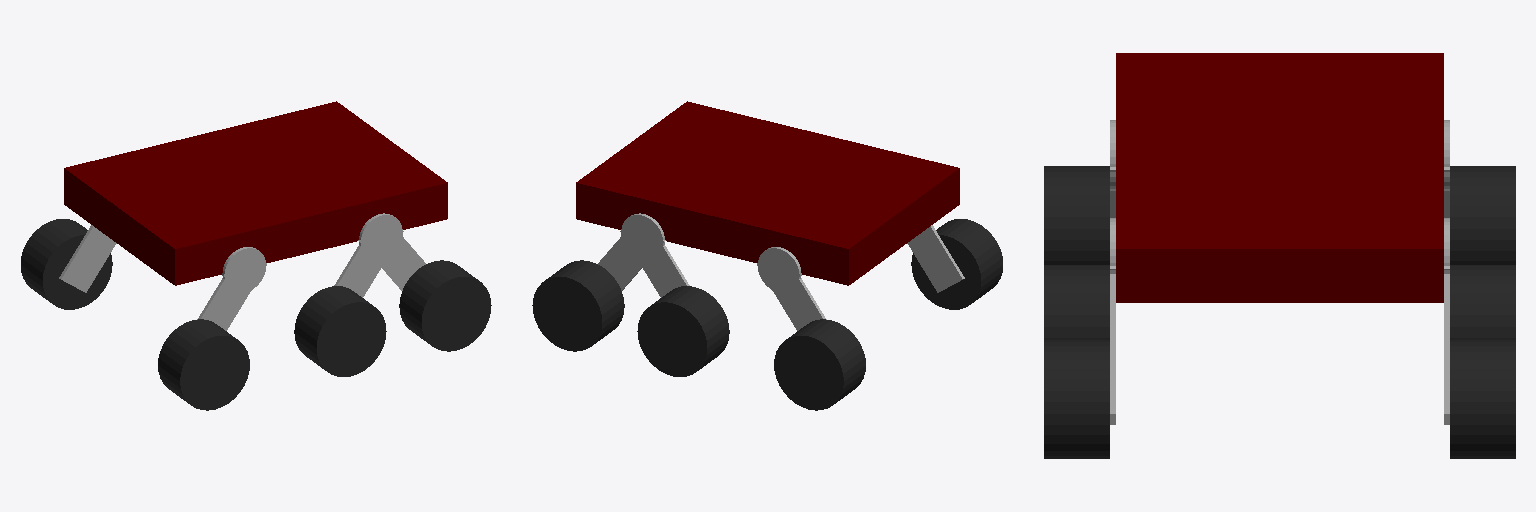
robot.urdf — rover:
<?xml version="1.0"?>
<robot name="rover">

  <material name="gray">
    <color rgba="0.7 0.7 0.7 5"/>
  </material>
  <material name="black">
    <color rgba="0.2 0.2 0.2 2"/>
  </material>
  <material name="chasis">
    <color rgba="0.4 0 0 2"/>
  </material>
  <material name="joint">
    <color rgba="0.4 0 0 2"/>
  </material>

  <link name="base_link">
    <visual>
      <geometry>
        <box size="0.0001 0.0001 0.000033"/>
      </geometry>
    </visual>
  </link>
  
  <link name="base_pitch">
    <visual>
      <geometry>
        <box size="0.0001 0.0001 0.000033"/>
      </geometry>
    </visual>
  </link>
  
  <joint name="base_link_to_base_pitch" type="revolute">
    <axis xyz="0 0 1"/>
    <limit effort="1000.0" lower="-7" upper="7" velocity=".1"/>
    <parent link="base_link"/>
    <child link="base_pitch"/>
    <origin xyz="0 0 -.000033"/>
  </joint>
  
  <link name="base_heading">
    <visual>
      <geometry>
        <box size="0.0001 0.0001 0.000033"/>
      </geometry>
    </visual>
  </link>
  
  <joint name="base_pitch_to_base_heading" type="revolute">
    <axis xyz="0 1 0"/>
    <limit effort="1000.0" lower="-0.6" upper="0.6" velocity=".1"/>
    <parent link="base_pitch"/>
    <child link="base_heading"/>
    <origin xyz="0 0 -.000066"/>
  </joint>
  
  <link name="chasis">
    <visual>
      <geometry>
        <box size="0.78 0.55 0.1"/>
      </geometry>
      <origin xyz="0 0 0 "/>
      <material name="chasis"/>
    </visual>
  </link>

  <joint name="base_heading_to_chasis" type="revolute">
    <axis xyz="1 0 0"/>
    <limit effort="1000.0" lower="-0.6" upper="0.6" velocity=".1"/>
    <parent link="base_heading"/>
    <child link="chasis"/>
    <origin xyz="0 0 -0.0001"/>
  </joint>
  
  <link name="right">
    <visual>
      <geometry>
        <cylinder radius="0.06" length=".01"/>
      </geometry>
      <origin rpy ="1.5708 0 0" xyz="0 0 0"/>
      <material name="gray"/>
    </visual>
  </link>
  
  <link name="right1">
    <visual>
      <geometry>
        <box size="0.09 0.01 0.323"/>
      </geometry>
      <origin rpy="0 0.6435029 0" xyz="-.07 0 -.1"/>
      <material name="gray"/>
    </visual>
  </link>
  
  <link name="right2">
    <visual>
      <geometry>
        <box size="0.09 0.01 0.323"/>
      </geometry>
      <origin rpy="0 -0.6435029 0" xyz=".07 0 -.1"/>
      <material name="gray"/>
    </visual>
  </link>
  
  <link name="left">
    <visual>
      <geometry>
        <cylinder radius="0.06" length=".01"/>
      </geometry>
      <origin rpy="1.5708 0 0" xyz="0 0 0"/>
      <material name="gray"/>
    </visual>
  </link>
  
  <link name="left1">
    <visual>
      <geometry>
        <box size="0.09 0.01 0.323"/>
      </geometry>
      <origin rpy="0 0.6435029 0" xyz="-.07 0 -.1"/>
      <material name="gray"/>
    </visual>
  </link>

  <link name="left2">
    <visual>
      <geometry>
        <box size="0.09 0.01 0.323"/>
      </geometry>
      <origin rpy="0 -0.6435029 0" xyz=".07 0 -.1"/>
      <material name="gray"/>
    </visual>
  </link>
  
  
  <link name="backleft">
    <visual>
      <geometry>
        <cylinder radius="0.06" length=".01"/>
      </geometry>
      <origin rpy="1.5708 0 0" xyz="0 0 0"/>
      <material name="gray"/>
    </visual>
  </link>
  
  <link name="backright">
    <visual>
      <geometry>
        <cylinder radius="0.06" length=".01"/>
      </geometry>
      <origin rpy="1.5708 0 0" xyz="0 0 0"/>
      <material name="gray"/>
    </visual>
  </link>

  <link name="back_right">
    <visual>
      <geometry>
        <box size="0.09 0.01 0.325"/>
      </geometry>
      <origin rpy="0 0.6435029 0" xyz="-0.07 0 -.1"/>
      <material name="gray"/>
    </visual>
  </link>
  
  <link name="back_left">
    <visual>
      <geometry>
        <box size="0.09 0.01 0.325"/>
      </geometry>
      <origin rpy="0 0.6435029 0" xyz="-0.07 0 -.1"/>
      <material name="gray"/>
    </visual>
  </link>
  
  <link name="back_right_wheel">
    <visual>
      <geometry>
        <cylinder radius="0.1" length=".11"/>
      </geometry>
      <origin rpy="1.5708 0 0" xyz="0 .055 0"/>
      <material name="black"/>
    </visual>
  </link>
  
  <link name="back_left_wheel">
    <visual>
      <geometry>
        <cylinder radius="0.1" length=".11"/>
      </geometry>
      <origin rpy="1.5708 0 0" xyz="0 -.055 0"/>
      <material name="black"/>
    </visual>
  </link>
  
  <link name="left1_wheel">
    <visual>
      <geometry>
        <cylinder radius="0.1" length=".11"/>
      </geometry>
      <origin rpy="1.5708 0 0" xyz="0 0.055 0"/>
      <material name="black"/>
    </visual>
  </link>
  <link name="left2_wheel">
    <visual>
      <geometry>
        <cylinder radius="0.1" length=".11"/>
      </geometry>
      <origin rpy="1.5708 0 0" xyz="0 0.055 0"/>
      <material name="black"/>
    </visual>
  </link>
  <link name="right1_wheel">
    <visual>
      <geometry>
        <cylinder radius="0.1" length=".11"/>
      </geometry>
      <origin rpy="1.5708 0 0" xyz="0 -.055 0"/>
      <material name="black"/>
    </visual>
  </link>
  <link name="right2_wheel">
    <visual>
      <geometry>
        <cylinder radius="0.1" length=".11"/>
      </geometry>
      <origin rpy="1.5708 0 0" xyz="0 -.055 0"/>
      <material name="black"/>
    </visual>
  </link>
  
  
  
  
  //suspensions
  
  <joint name="chasis_to_right" type="revolute">
    <axis xyz="0 1 0"/>
    <limit effort="1000.0" lower="-0.6" upper="0.6" velocity=".1"/>
    <parent link="chasis"/>
    <child link="right"/>
    <origin xyz="0.195 -0.28 -.05"/>
  </joint>
  
  <joint name="chasis_to_left" type="revolute">
    <axis xyz="0 1 0"/>
    <limit effort="1000.0" lower="-0.6" upper="0.6" velocity=".1"/>
    <parent link="chasis"/>
    <child link="left"/>
    <origin xyz="0.195 0.28 -.05"/>
  </joint>
  
  <joint name="backright_to_back_right" type="fixed">
    <parent link="backright"/>
    <child link="back_right"/>
    <origin xyz="0 0 0"/>
  </joint>

  <joint name="backleft_to_back_left" type="fixed">
    <parent link="backleft"/>
    <child link="back_left"/>
    <origin xyz="0 0 0"/>
  </joint>
  
  
  
  <joint name="chasis_to_backright" type="revolute">
    <axis xyz="0 1 0"/>
    <limit effort="1000.0" lower="0" upper="0.6" velocity=".1"/>
    <parent link="chasis"/>
    <child link="backright"/>
    <origin xyz="-0.195 0.28 -.05"/>
  </joint>

  <joint name="chasis_to_backleft" type="revolute">
    <axis xyz="0 1 0"/>
    <limit effort="1000.0" lower="0" upper="0.6" velocity=".1"/>
    <parent link="chasis"/>
    <child link="backleft"/>
    <origin xyz="-0.195 -0.28 -.05"/>
  </joint>
  
  
  
  <joint name="left_to_left1" type="fixed">
    <parent link="left"/>
    <child link="left1"/>
    <origin xyz="0 0 0"/>
  </joint>
  
  <joint name="left_to_left2" type="fixed">
    <parent link="left"/>
    <child link="left2"/>
    <origin xyz="0 0 0"/>
  </joint>
  
  <joint name="rigth_to_right1" type="fixed">
    <parent link="right"/>
    <child link="right1"/>
    <origin xyz="0 0 0"/>
  </joint>
  
  <joint name="rigth_to_right2" type="fixed">
    <parent link="right"/>
    <child link="right2"/>
    <origin xyz="0 0 0"/>
  </joint>
  
  
  
  
  
  
  
  //wheels
  
  
  <joint name="back_right_to_back_right_wheel" type="continuous">
      <axis xyz="0 1 0"/>
    <parent link="back_right"/>
    <child link="back_right_wheel"/>
    <origin xyz="-.15 0.005 -.2"/>
  </joint>
  
  <joint name="back_left_to_back_left_wheel" type="continuous">
      <axis xyz="0 1 0"/>
    <parent link="back_left"/>
    <child link="back_left_wheel"/>
    <origin xyz="-.15 -0.005 -.2"/>
  </joint>
  
  <joint name="left1_to_left1_wheel" type="continuous">
      <axis xyz="0 1 0"/>
    <parent link="left1"/>
    <child link="left1_wheel"/>
    <origin xyz=".15 0.005 -.2"/>
  </joint>
  
  <joint name="left2_to_left2_wheel" type="continuous">
      <axis xyz="0 1 0"/>
    <parent link="left2"/>
    <child link="left2_wheel"/>
    <origin xyz="-.15 0.005 -.2"/>
  </joint>
  
  <joint name="right1_to_right1_wheel" type="continuous">
      <axis xyz="0 1 0"/>
    <parent link="right1"/>
    <child link="right1_wheel"/>
    <origin xyz=".15 -0.005 -.2"/>
  </joint>
  
  <joint name="right2_to_right2_wheel" type="continuous">
      <axis xyz="0 1 0"/>
    <parent link="right2"/>
    <child link="right2_wheel"/>
    <origin xyz="-.15 -0.005 -.2"/>
  </joint>  

</robot>

--- What the picture shows (computed from the rendered views, not written in the file) ---
The picture shows the robot from 3 angles, left to right: view 1: azimuth 30°, elevation 25°; view 2: azimuth 150°, elevation 25°; view 3: azimuth 270°, elevation 25°; orthographic projection.
Model rover with 20 links and 19 joints (7 revolute, 6 continuous, 6 fixed), rooted at base_link, posed all joints at 0.
Links seen in each view (by area): view 1: chasis, back_left_wheel, right2_wheel, right1_wheel, back_right_wheel, back_right, back_left, right2, right1, backleft, right; view 2: chasis, back_right_wheel, left2_wheel, left1_wheel, back_left_wheel, back_left, back_right, left1, left2, backright, left; view 3: chasis, left1_wheel, right1_wheel, back_right_wheel, back_left_wheel, left2_wheel, right2_wheel, right2, left2.
Link boxes in pixels (x1,y1,x2,y2): chasis: (64, 101, 447, 285); back_left_wheel: (158, 319, 249, 410); right2_wheel: (294, 286, 386, 376); right1_wheel: (399, 260, 491, 351); back_right_wheel: (21, 219, 112, 309); back_right: (59, 225, 116, 292); back_left: (197, 263, 266, 330); right2: (358, 235, 425, 290); right1: (334, 231, 403, 297); backleft: (222, 247, 265, 289); right: (359, 213, 402, 245); chasis: (576, 101, 959, 285); back_right_wheel: (774, 319, 865, 410); left2_wheel: (637, 286, 729, 376); left1_wheel: (532, 260, 624, 351); back_left_wheel: (911, 219, 1002, 309); back_left: (907, 225, 964, 292); back_right: (757, 251, 826, 330); left1: (620, 218, 689, 297); left2: (598, 217, 665, 290); backright: (758, 247, 801, 292); left: (621, 213, 664, 259); chasis: (1116, 53, 1443, 302); left1_wheel: (1450, 340, 1515, 458); right1_wheel: (1044, 340, 1109, 458); back_right_wheel: (1450, 166, 1515, 264); back_left_wheel: (1044, 166, 1109, 264); left2_wheel: (1450, 265, 1515, 339); right2_wheel: (1044, 265, 1109, 339); right2: (1110, 274, 1115, 424); left2: (1444, 274, 1449, 424).
Size in the robot's own frame: 0.89 by 0.79 by 0.4 metres.
Geometry: primitives only (box / cylinder / sphere), no mesh files.